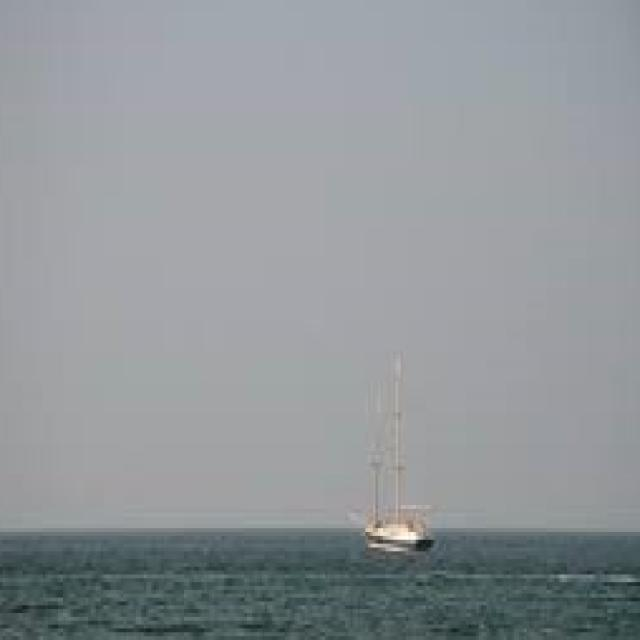fishing boat: (345, 338, 432, 556)
